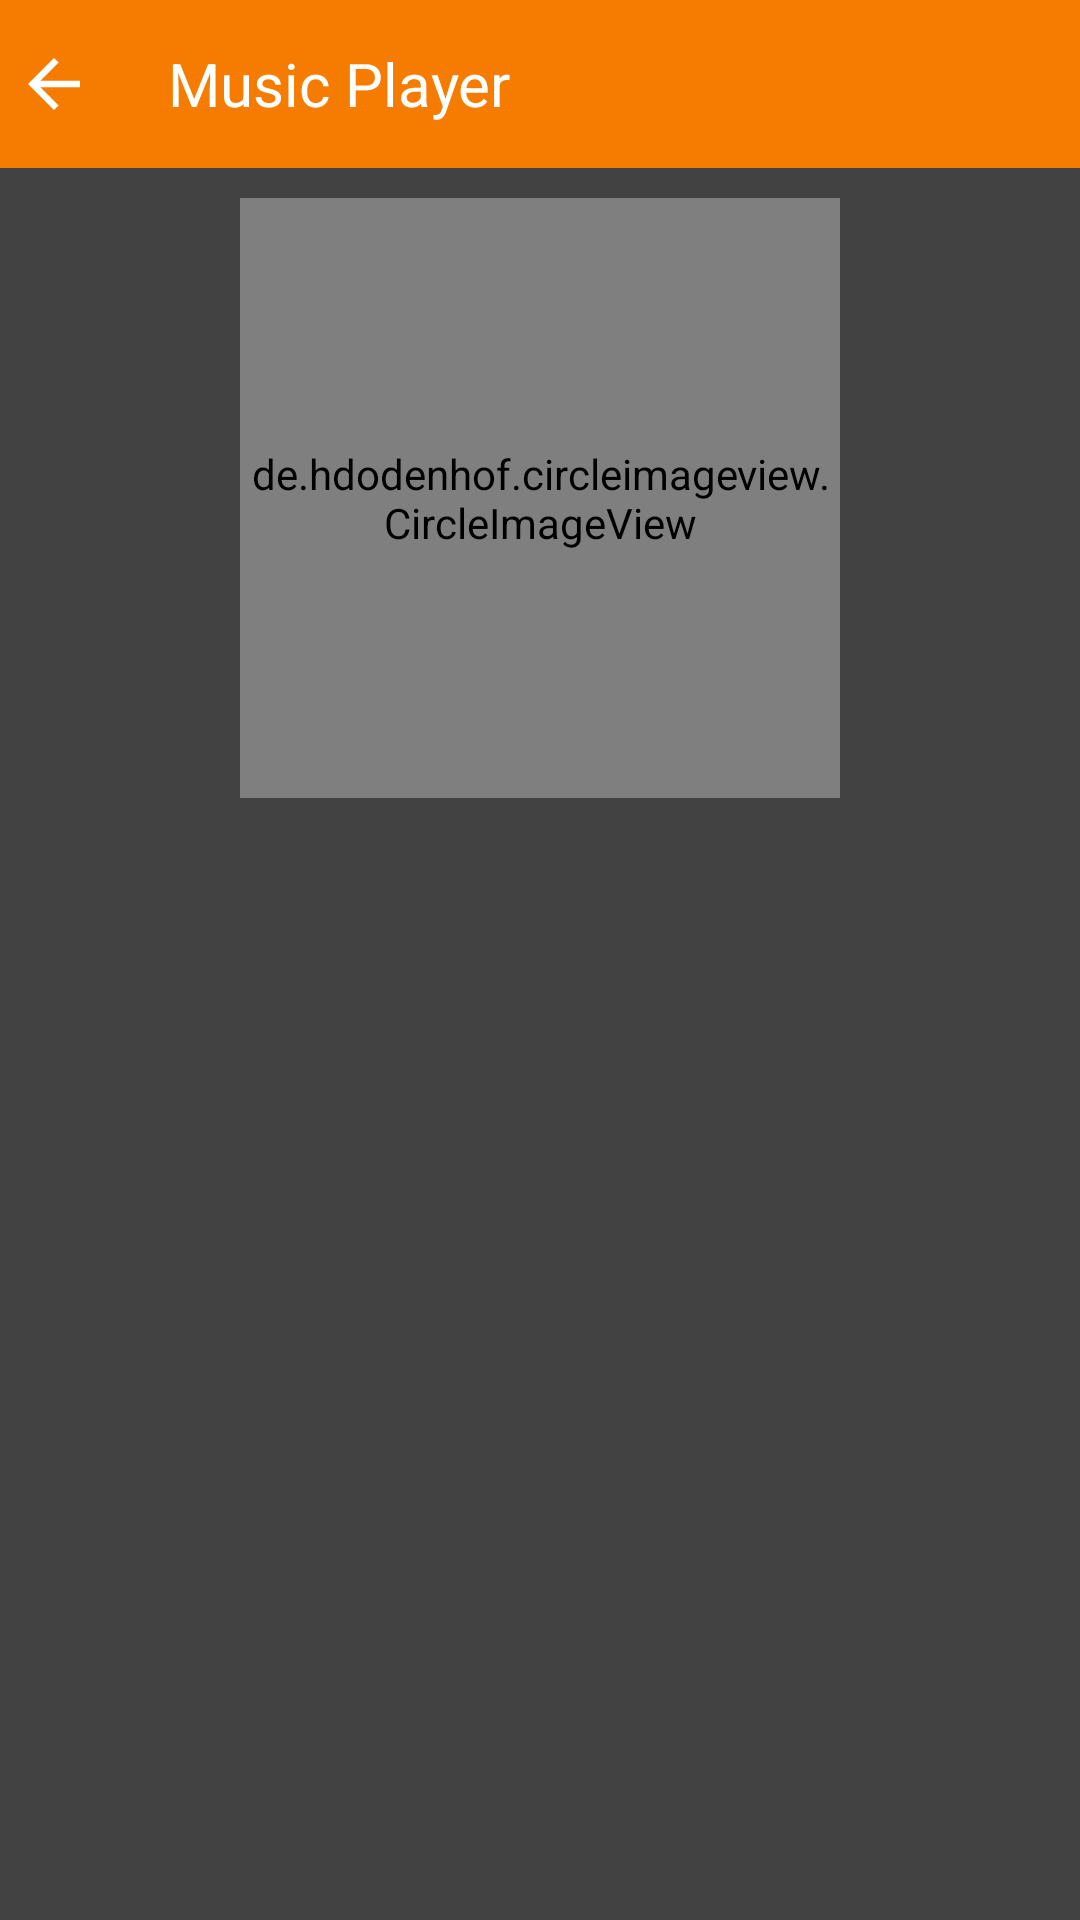

Screen size 1080 x 1920. Icon name, then its center in pixels as point (x, y):
back: point (54, 84)
